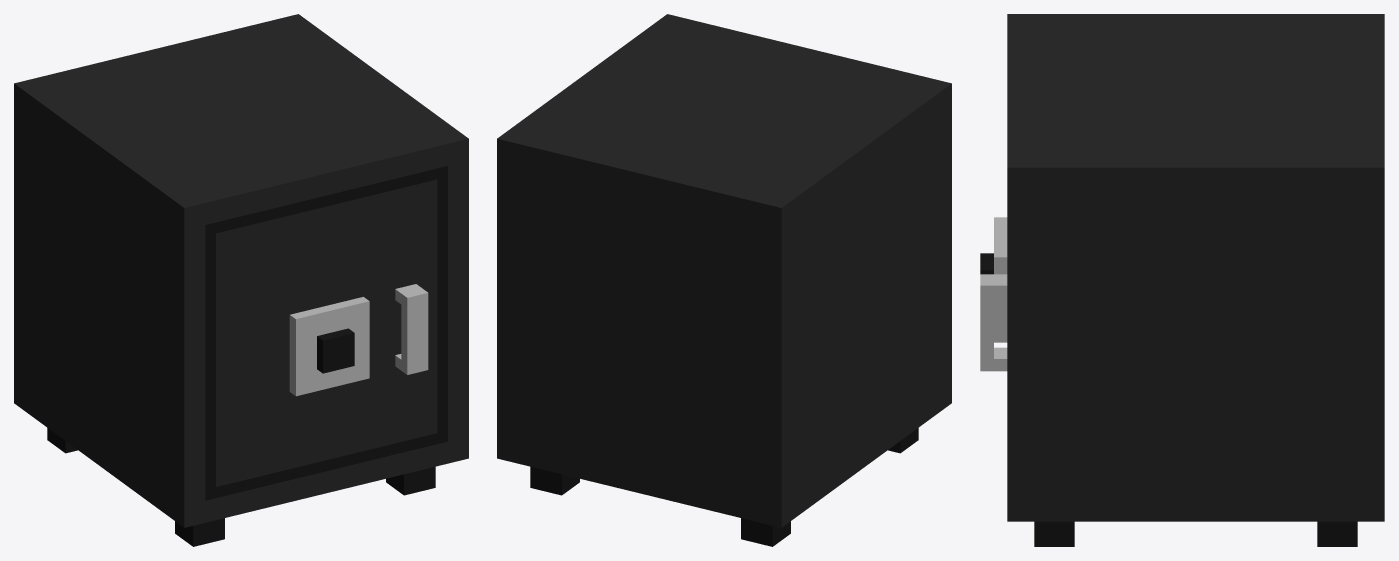
File: Voxel Universe Objects-57.obj
The picture shows the model from 3 angles, left to right: view 1: azimuth 30°, elevation 25°; view 2: azimuth 150°, elevation 25°; view 3: azimuth 270°, elevation 25°; orthographic projection. The views are drawn at different scales.
Bounding box in the file's own units: 2.7 × 3.2 × 3.
1 material, 1 textured.
